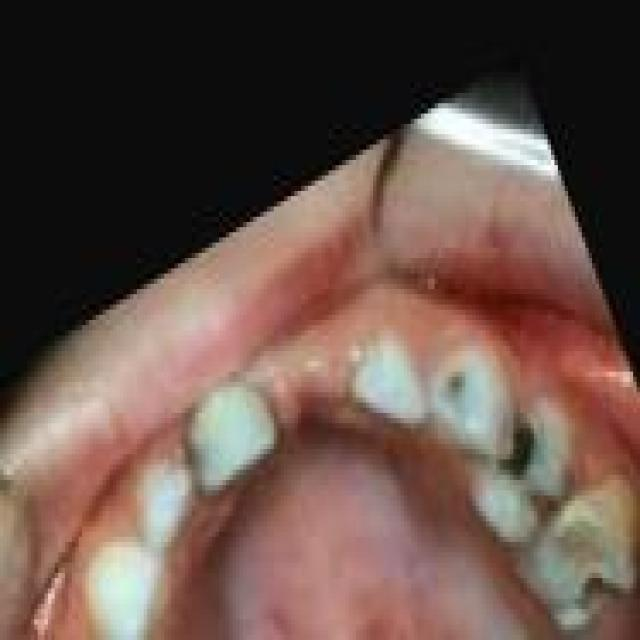caries: (523, 472, 639, 634), (492, 368, 566, 533), (436, 353, 495, 455), (175, 413, 230, 504)
